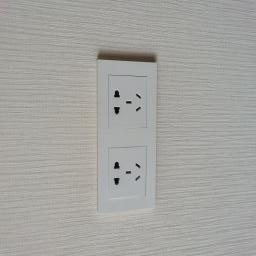outlet: (94, 54, 162, 219)
